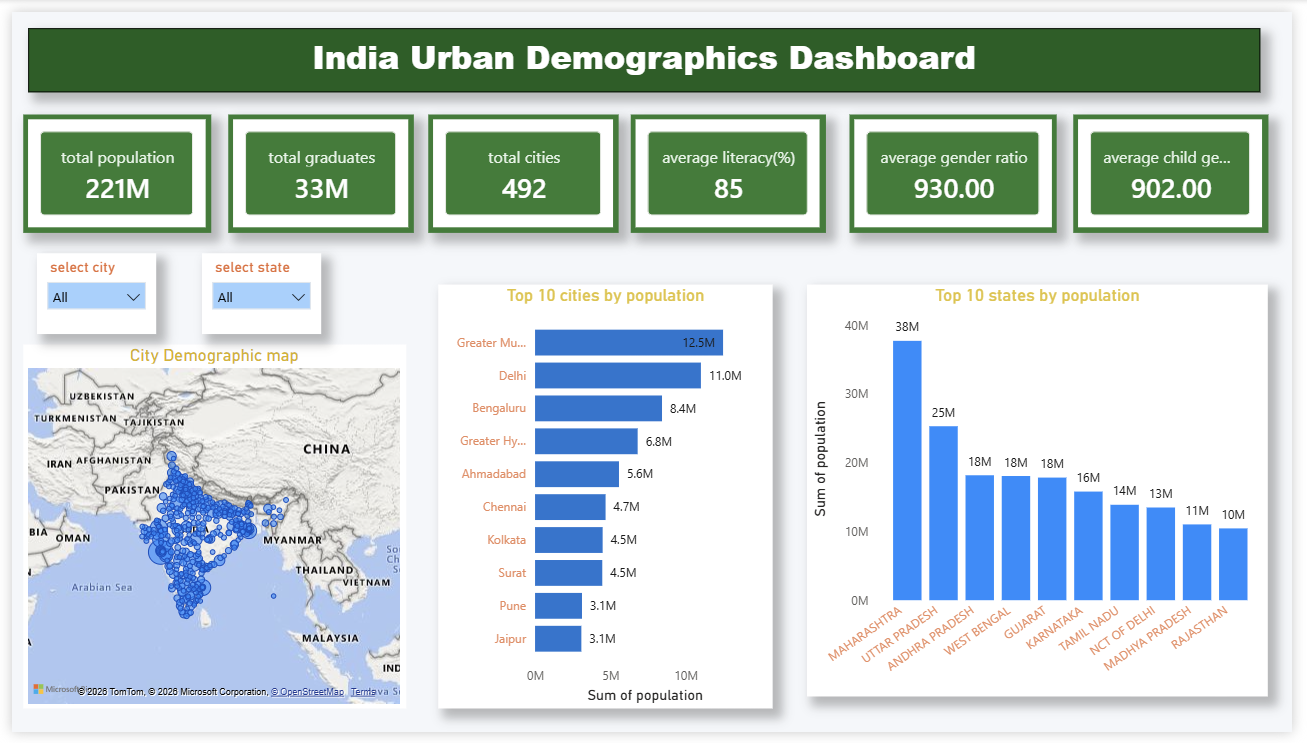

The dashboard page shown, as its layout file describes it:
{"tool":"powerbi","page":{"name":"Page 1","canvas":[1280,720],"ordinal":0},"visuals":[{"type":"cardVisual","fields":{"Data":["cities_r2.total population"]},"box":[11,102.9,188,118],"z":0},{"type":"cardVisual","fields":{"Data":["cities_r2.total graduates"]},"box":[216.8,102.9,185.2,118],"z":1000},{"type":"cardVisual","fields":{"Data":["cities_r2.total cities"]},"box":[415.8,102.9,190.7,118],"z":2000},{"type":"cardVisual","fields":{"Data":["cities_r2.average literacy"]},"box":[618.9,102.9,194.9,118],"z":3000},{"type":"cardVisual","fields":{"Data":["cities_r2.average gender ratio"]},"box":[837.1,102.9,207.2,118],"z":4000},{"type":"cardVisual","fields":{"Data":["cities_r2.average child gender ratio"]},"box":[1060.7,102.9,194.9,118],"z":5000},{"type":"map","title":"City Demographic map","fields":{"Category":["cities_r2.name of city"],"Y":["Avg(cities_r2.latitude)"],"X":["Avg(cities_r2.longitude)"],"Size":["Sum(cities_r2. population)"]},"box":[10.7,332.1,382.1,364.3],"z":6000},{"type":"slicer","fields":{"Values":["cities_r2.name of city"]},"box":[25,241.7,119,81],"z":7000},{"type":"slicer","fields":{"Values":["cities_r2.state name"]},"box":[190.5,241.7,119,81],"z":8000},{"type":"clusteredBarChart","title":"Top 10 cities by population","fields":{"Y":["Sum(cities_r2. population)"],"Category":["cities_r2.name of city"]},"box":[426.2,272.6,334.5,423.8],"z":9000},{"type":"clusteredColumnChart","title":"Top 10 states by population","fields":{"Category":["cities_r2.state name"],"Y":["Sum(cities_r2.population)"]},"box":[795.2,272.6,460.7,411.9],"z":10000},{"type":"textbox","box":[16,16,1232,64],"z":11000}]}

Visuals, with their boxes in screenshot pixels (x1, y1, x2, y2), scaled from the page's 1280x720 canvas onto the 1307x743 screenshot:
cardVisual - cities_r2.total population: x1=11 y1=106 x2=203 y2=228
cardVisual - cities_r2.total graduates: x1=221 y1=106 x2=410 y2=228
cardVisual - cities_r2.total cities: x1=425 y1=106 x2=619 y2=228
cardVisual - cities_r2.average literacy: x1=632 y1=106 x2=831 y2=228
cardVisual - cities_r2.average gender ratio: x1=855 y1=106 x2=1066 y2=228
cardVisual - cities_r2.average child gender ratio: x1=1083 y1=106 x2=1282 y2=228
"City Demographic map" map: x1=11 y1=343 x2=401 y2=719
slicer - cities_r2.name of city: x1=26 y1=249 x2=147 y2=333
slicer - cities_r2.state name: x1=195 y1=249 x2=316 y2=333
"Top 10 cities by population" clusteredBarChart: x1=435 y1=281 x2=777 y2=719
"Top 10 states by population" clusteredColumnChart: x1=812 y1=281 x2=1282 y2=706
textbox: x1=16 y1=17 x2=1274 y2=83
